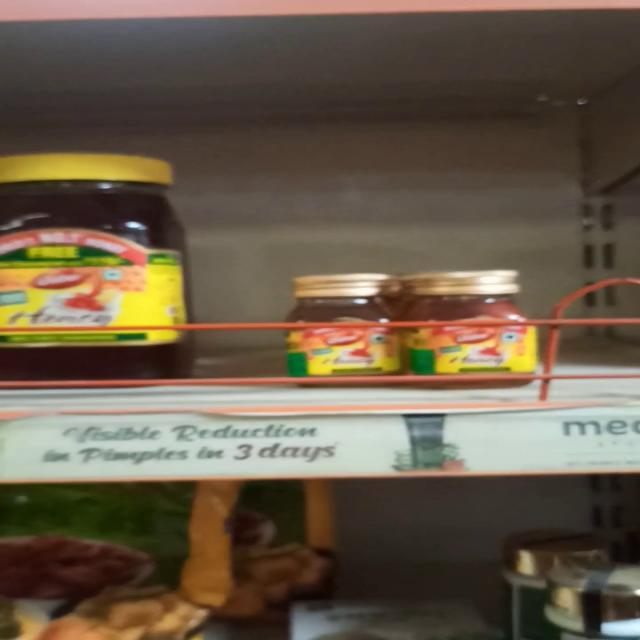Dabur Honey: (0, 154, 195, 380), (414, 274, 534, 382), (291, 274, 408, 380)
